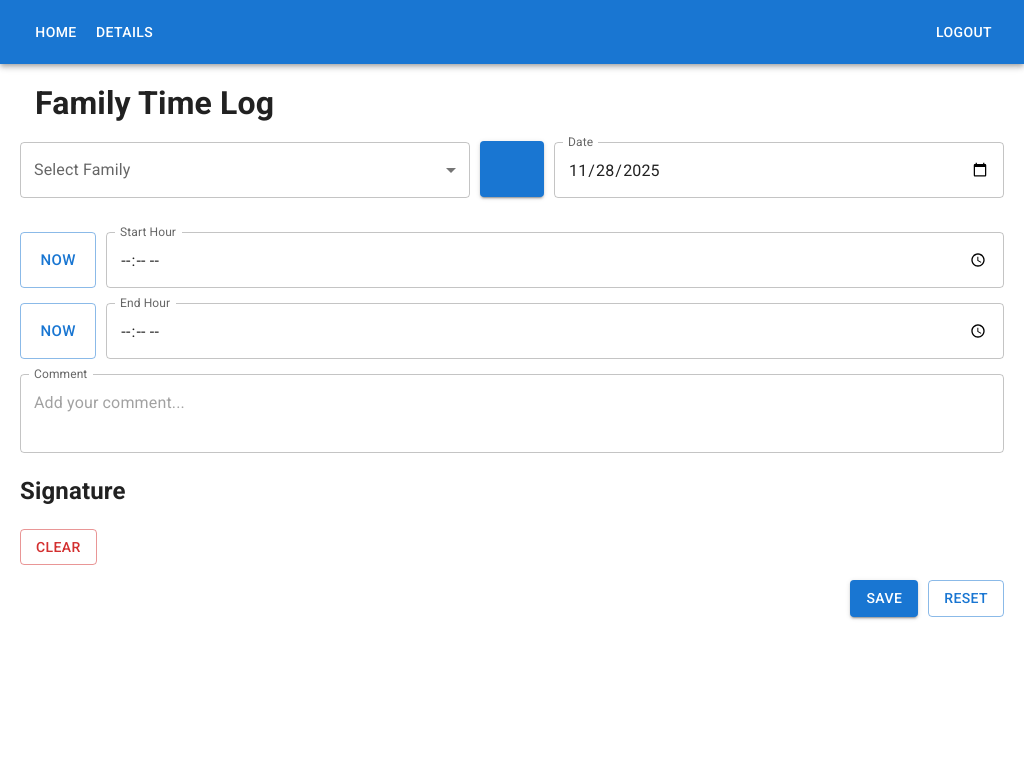
Test: Time logger test › should set current time on start and end hour when clicking now button
This screenshot has width=1024, height=768.
Click the button "Now" next to "Start Hour" at coordinates (58, 260), box [20,232,96,288]
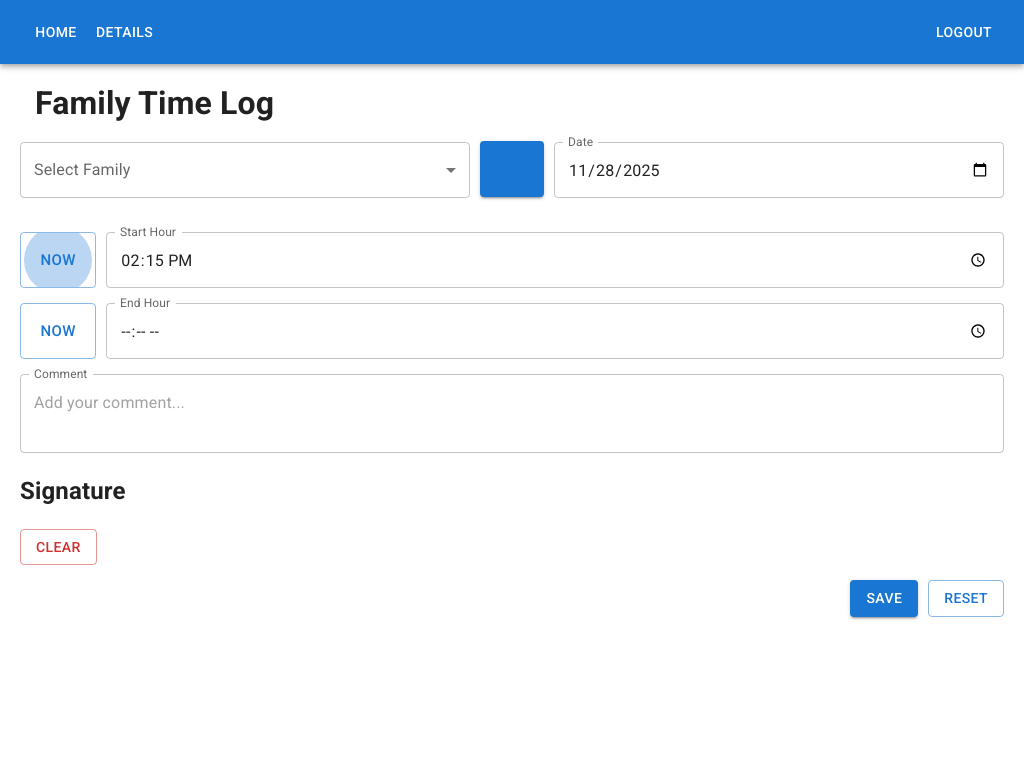
Click the button "Now" next to "End Hour" at coordinates (58, 331), box [20,303,96,359]
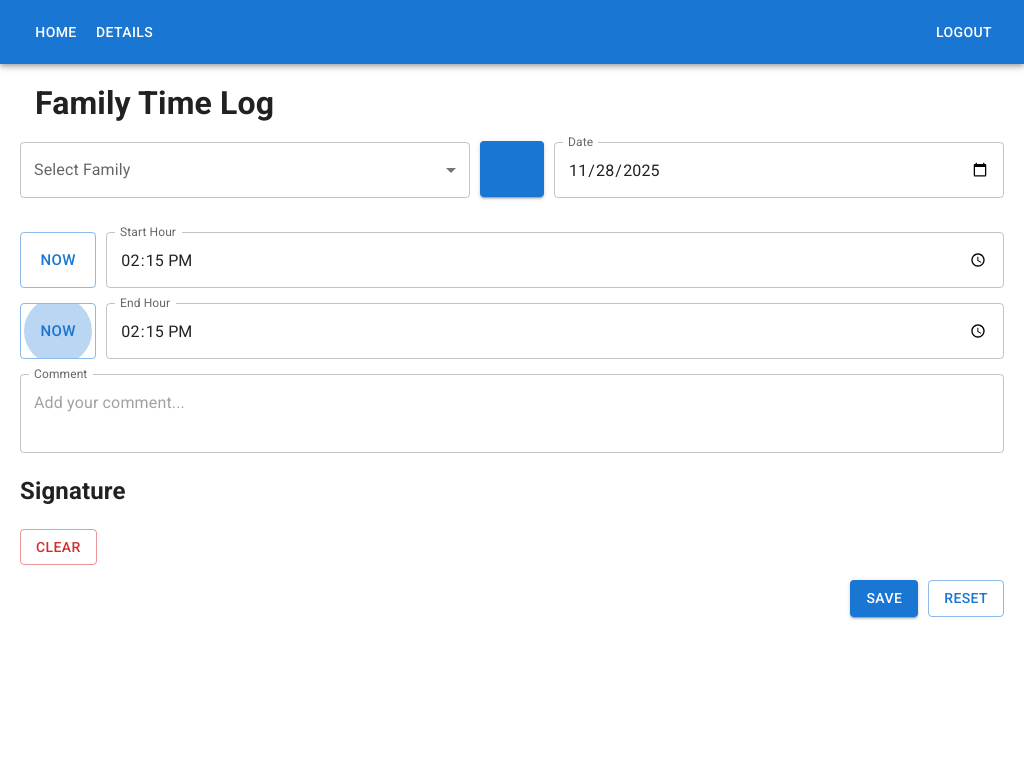
Result: the time field labelled "Start Hour" holds "14:15" at [106,232,1004,288]
Result: the time field labelled "End Hour" holds "14:15" at [106,303,1004,359]
